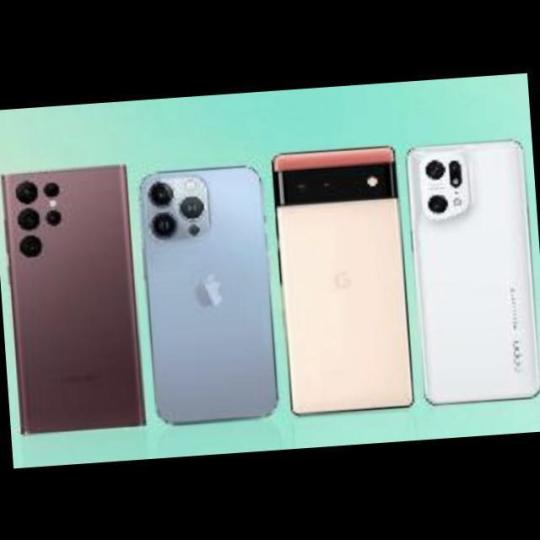phone: (265, 140, 417, 412), (1, 167, 150, 436), (400, 139, 539, 412), (145, 162, 281, 424)
